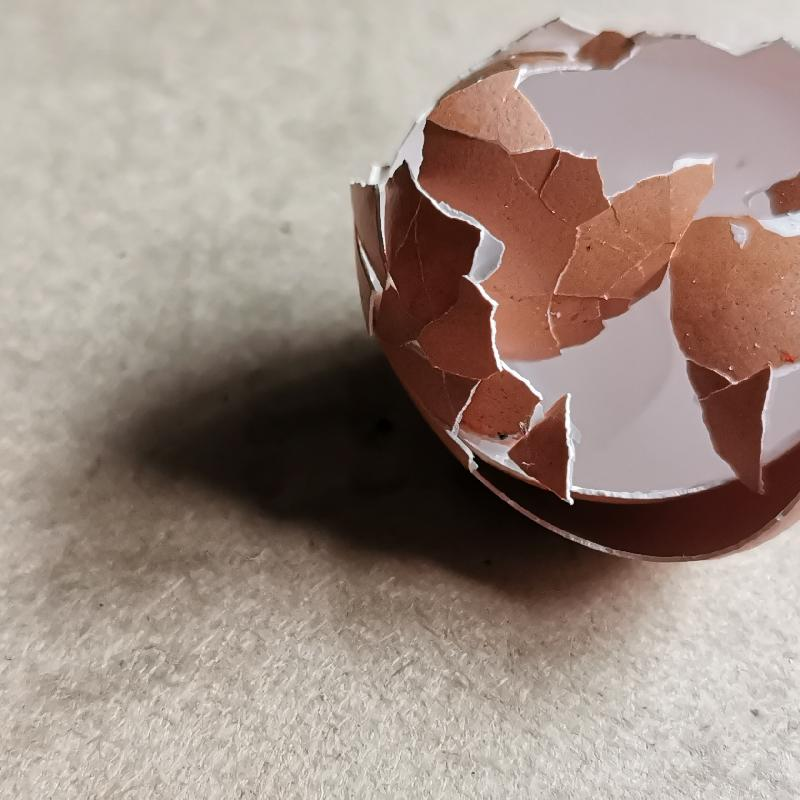eggshell: (349, 16, 799, 571)
